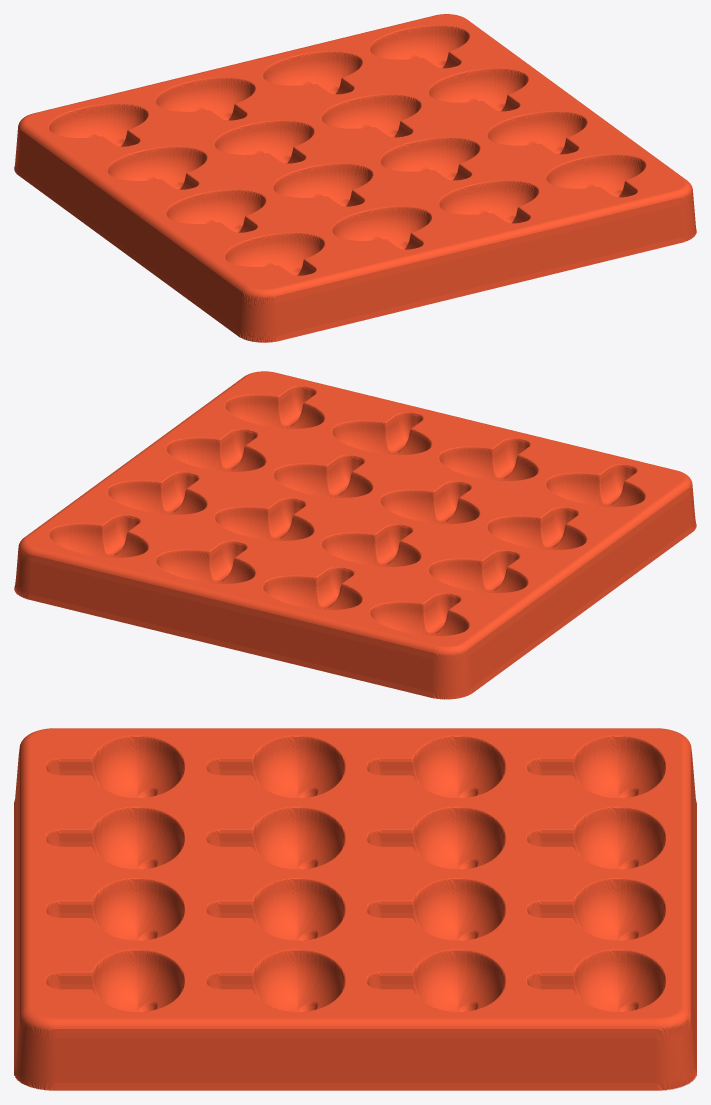
File: mold.glb
3 renders of one model, top to bottom at view 1: azimuth 30°, elevation 25°; view 2: azimuth 150°, elevation 25°; view 3: azimuth 270°, elevation 25°, orthographic. The views are drawn at different scales.
Parts seen in each view (by area): view 1: geometry_0; view 2: geometry_0; view 3: geometry_0.
Part boxes in pixels (<box>): geometry_0: <box>14,14,696,342</box>; geometry_0: <box>14,371,696,699</box>; geometry_0: <box>14,728,696,1090</box>.
Bounding box in the file's own units: 0.1569 × 0.0159 × 0.1496.
